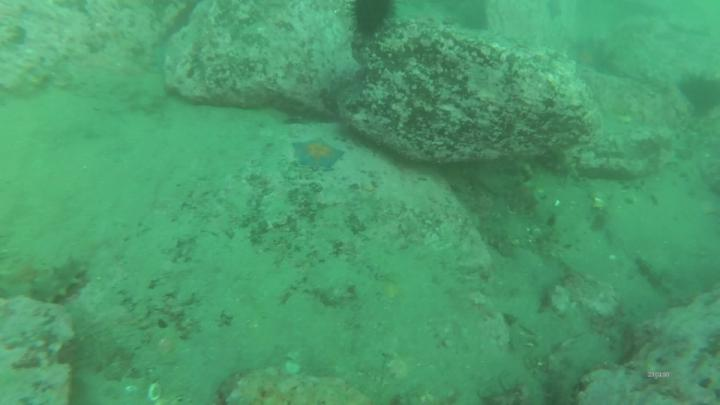echinus: (353, 2, 394, 39), (685, 79, 720, 113)
holothurian: (39, 262, 87, 301)
starfish: (293, 139, 344, 170), (572, 39, 607, 66)
